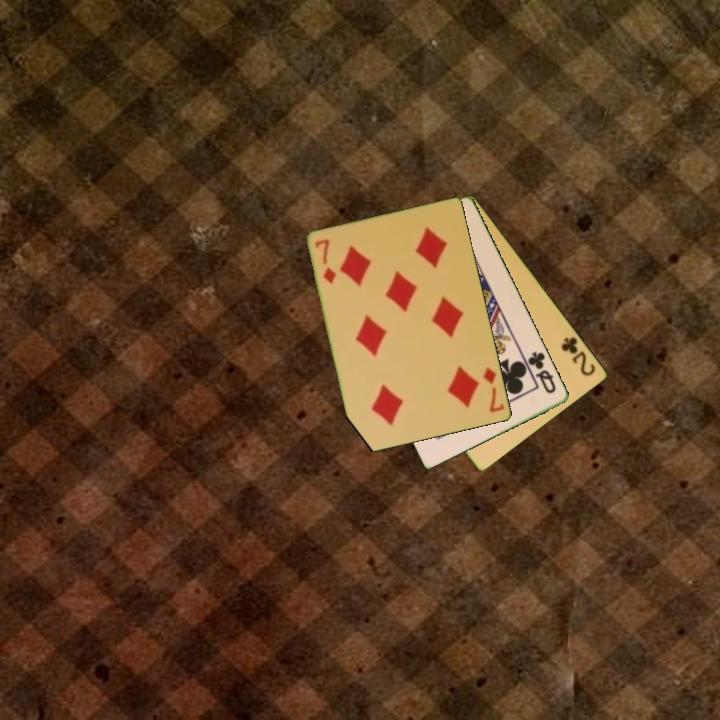2c: (558, 333, 599, 379)
7d: (480, 363, 507, 416), (312, 236, 340, 287)
Qc: (525, 348, 559, 397)
